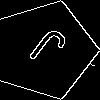J: (20, 25, 70, 77)
